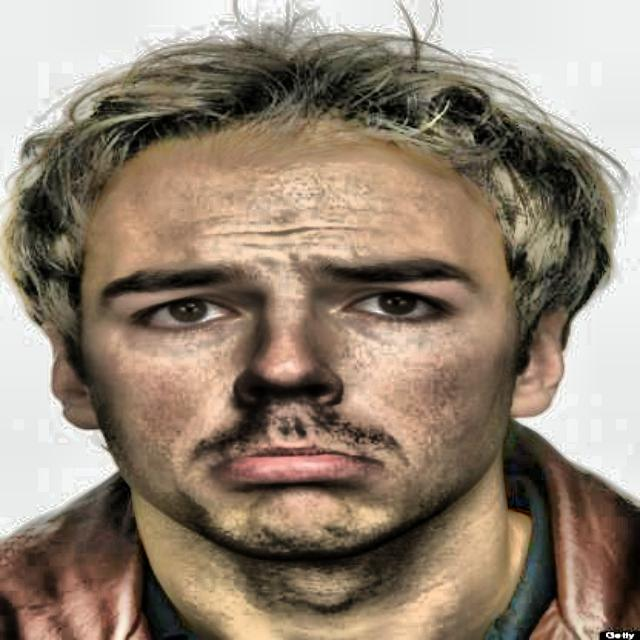sad: (1, 12, 630, 558)
